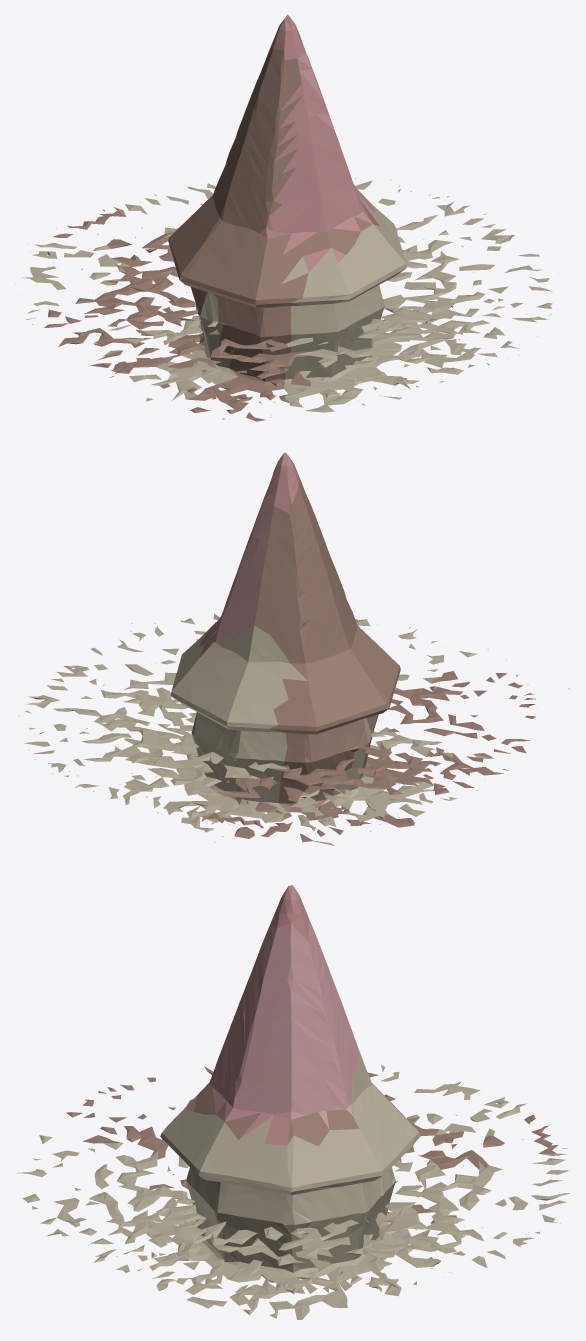
Rendered from house.glb.
3 views of the same model, one above another, from view 1: azimuth 30°, elevation 25°; view 2: azimuth 150°, elevation 25°; view 3: azimuth 270°, elevation 25° (orthographic). The views are drawn at different scales.
Parts seen in each view (by area): view 1: geometry_0; view 2: geometry_0; view 3: geometry_0.
Boxes of the visible parts, <box> form: geometry_0: <box>15,14,558,421</box>; geometry_0: <box>19,452,569,845</box>; geometry_0: <box>16,885,570,1319</box>.
Bounding box in the file's own units: 1.98 × 1.38 × 1.98.
